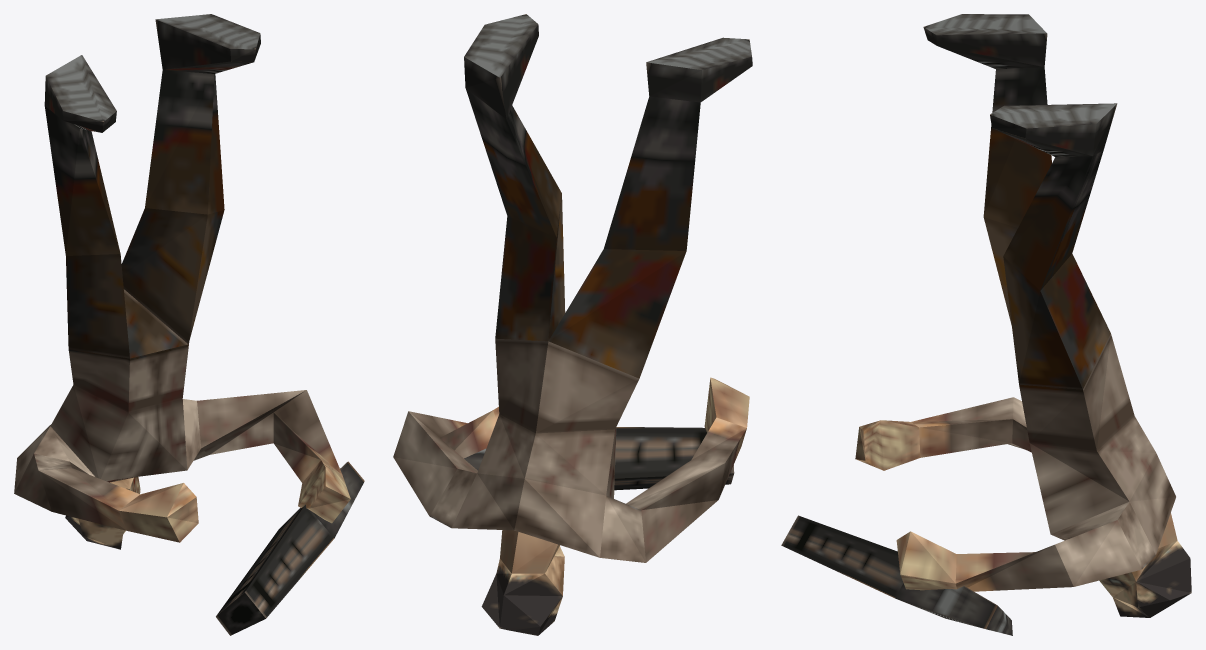
The model's file is GOON_000007.obj.
3 views of the same model, side by side, from view 1: azimuth 30°, elevation 25°; view 2: azimuth 150°, elevation 25°; view 3: azimuth 270°, elevation 25° (orthographic). The views are drawn at different scales.
Visible parts, largest first — view 1: Cube_Cube.001; view 2: Cube_Cube.001; view 3: Cube_Cube.001.
Part boxes in pixels (box(x1,y1,x2,y2)): Cube_Cube.001: box(14, 14, 364, 635); Cube_Cube.001: box(393, 14, 752, 635); Cube_Cube.001: box(781, 14, 1191, 635).
Bounding box in the file's own units: 14.71 × 24.16 × 16.47.
